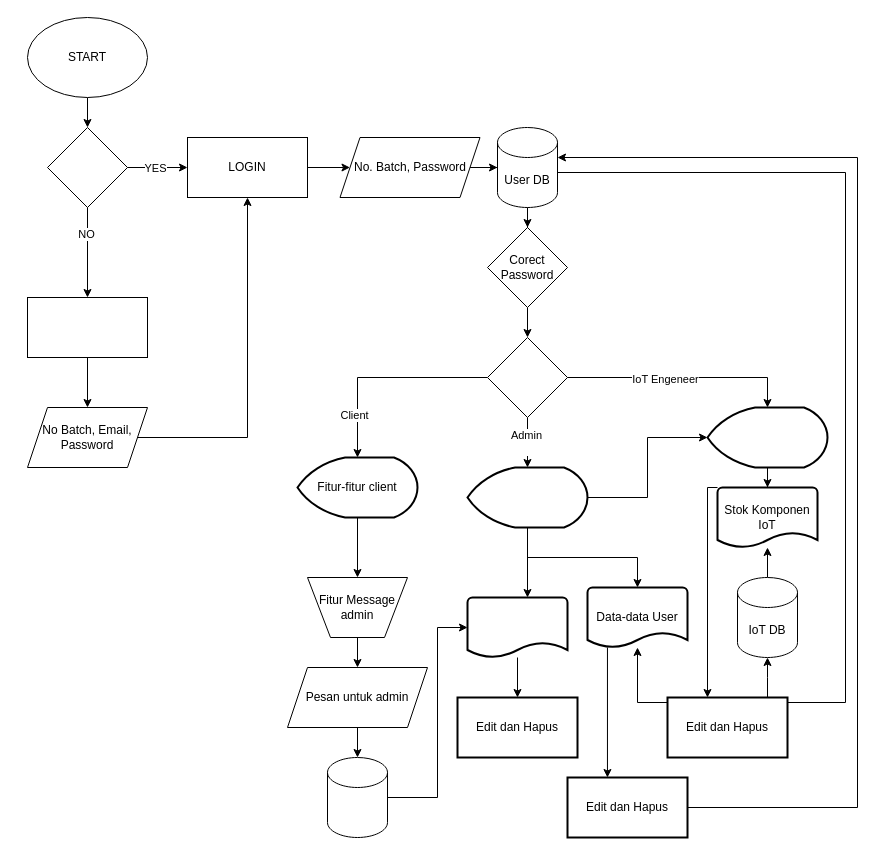
The diagram is 883 pixels wide and 856 high, and some of its shapes have lost their labels. Each missing label, with the centre of its shape:
"DO YOU HAVE AN ACCOUNT ?" goes at (87,167).
"Fitur-fitur Admin" goes at (527,497).
"Fitur-Fitur IoT User" goes at (767,437).
"Message dari client" goes at (517,627).
"Message DB" goes at (357,797).
"SIGN IN" goes at (87,327).
"What Batch ?" goes at (527,377).
